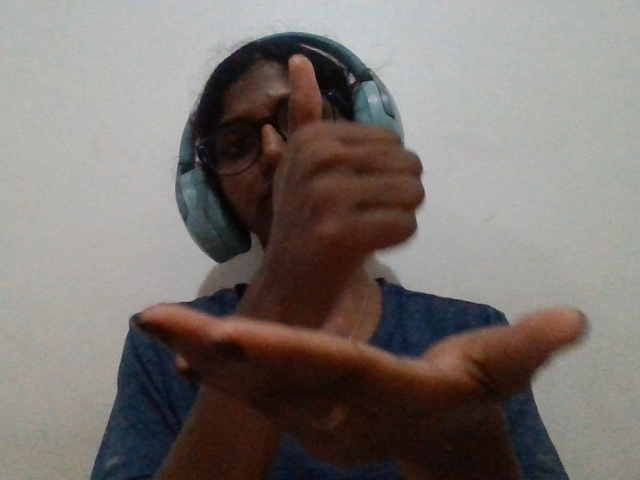Help: (66, 13, 595, 480)
